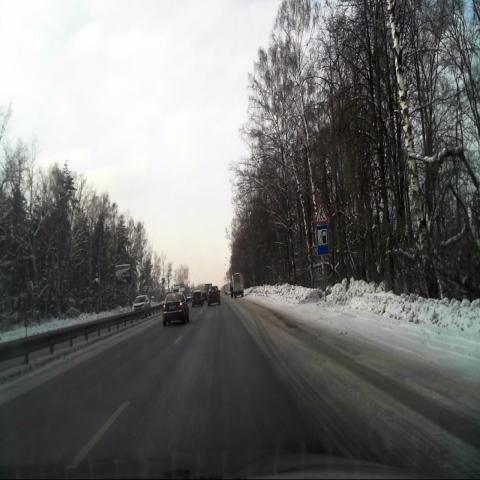1_22: (315, 201, 329, 224)
